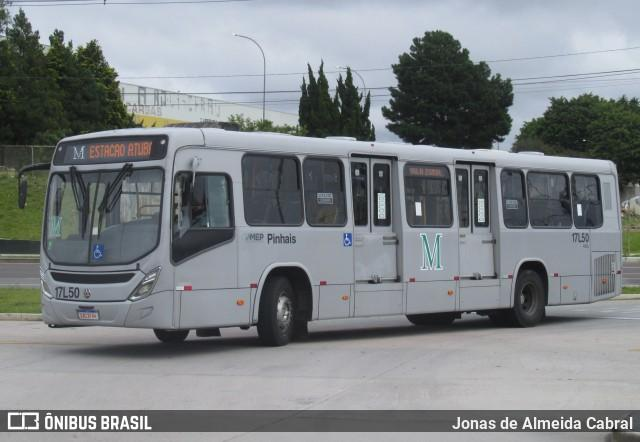ESTACAO ATUBA: (86, 138, 156, 161)
